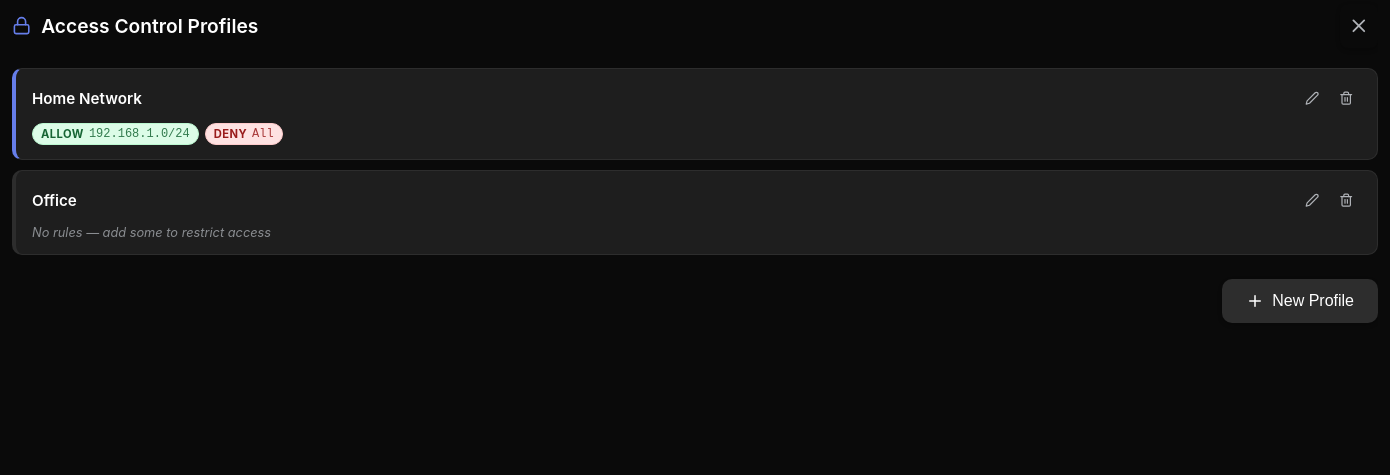
Scenario: AclManager — validation › shows validation error when saving with invalid IP address
This screenshot has width=1390, height=475.
Expected: the text "Home Network" is shown, 32,88 -> 142,108
Click the button "New Profile": point(1300, 301) 1222,279 -> 1378,323
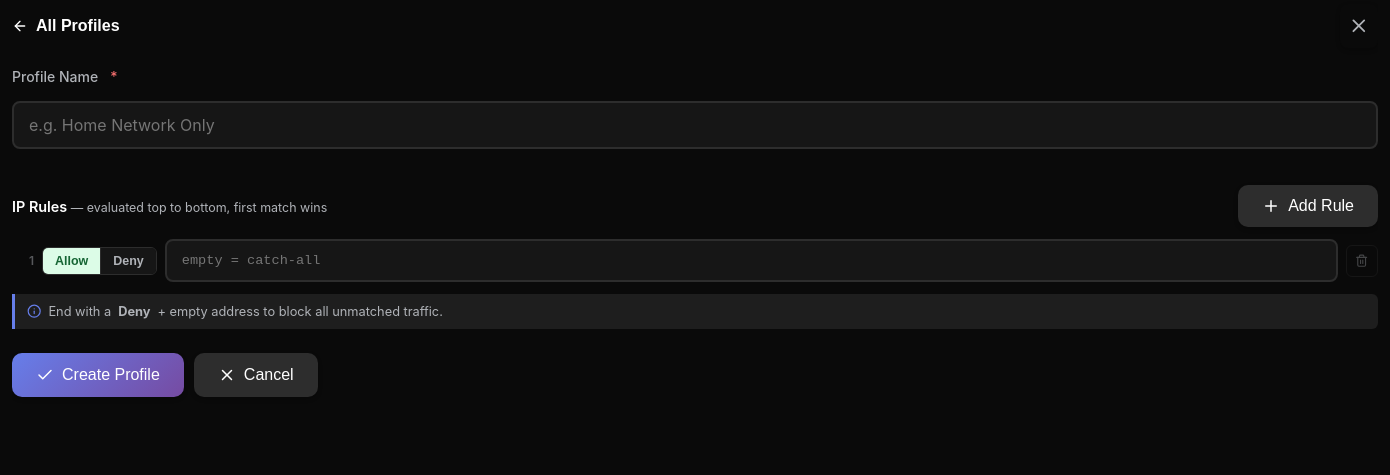
In the field with placeholder "e.g. Home Network Only": point(695, 125) 12,101 -> 1378,149, type "Test Profile"
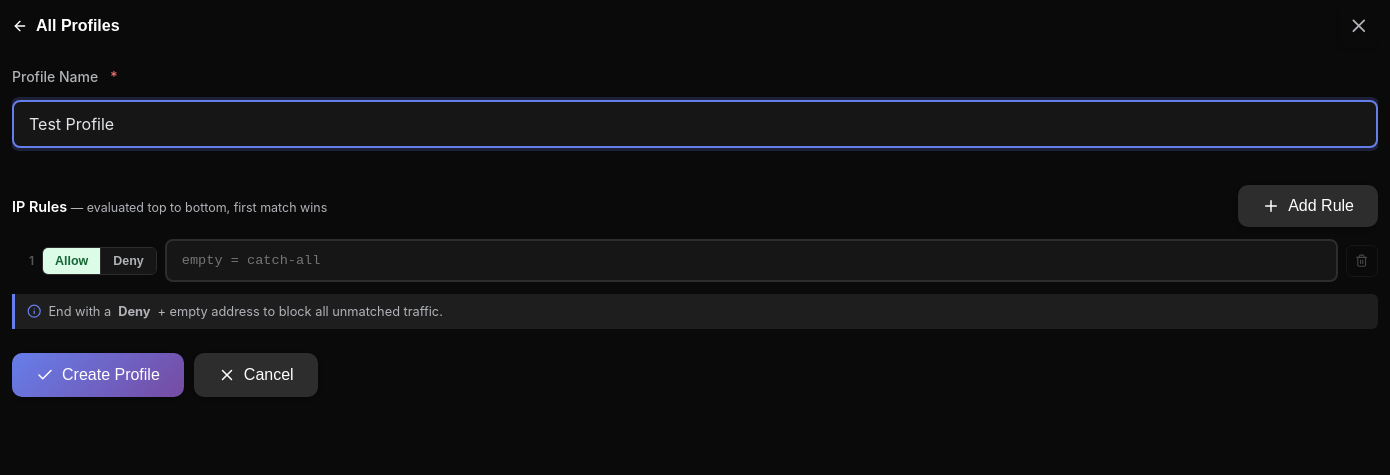
# Type an invalid IP into the address input
In the field with placeholder "empty = catch-all": point(751, 260) 165,239 -> 1338,282, type "999.999.999.999"
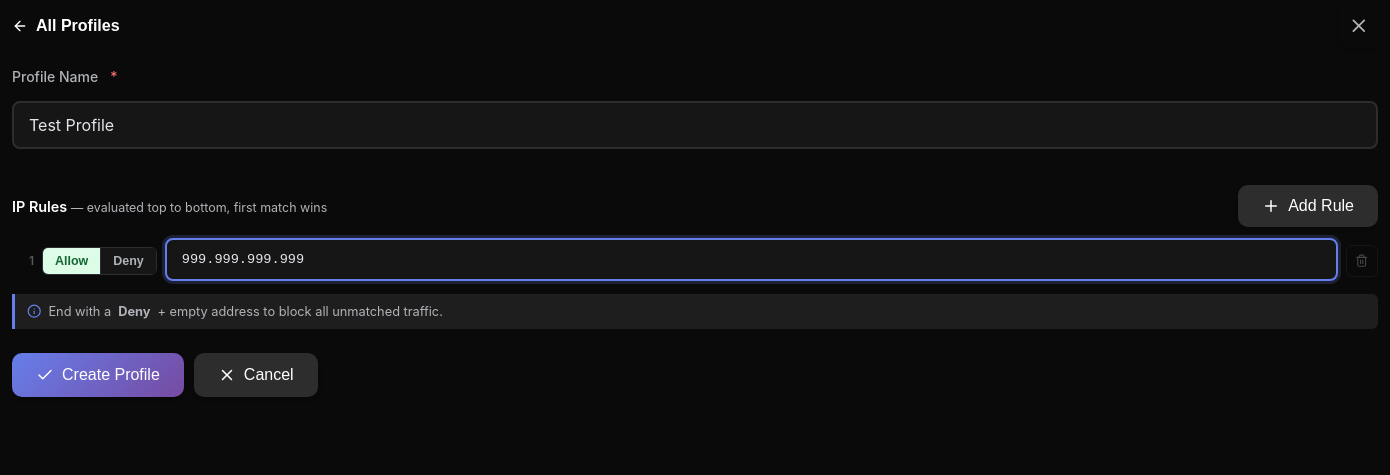
Click the button "Create Profile": point(98, 375) 12,353 -> 184,397
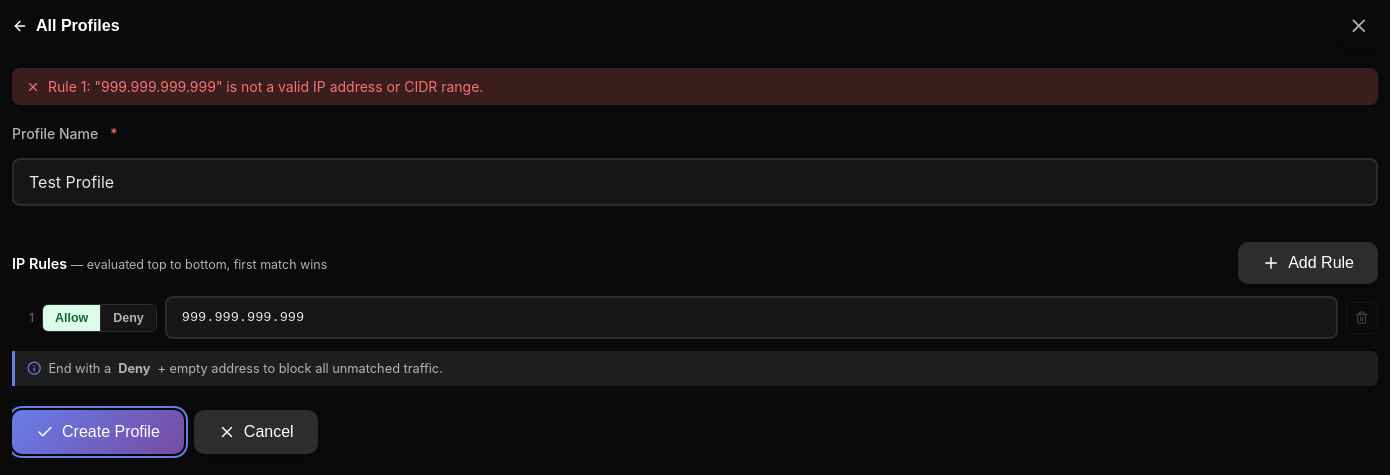
Expected: the message "Rule 1: \"999.999.999.999\" is not a valid IP address or CIDR range." is shown, 12,68 -> 1378,105
